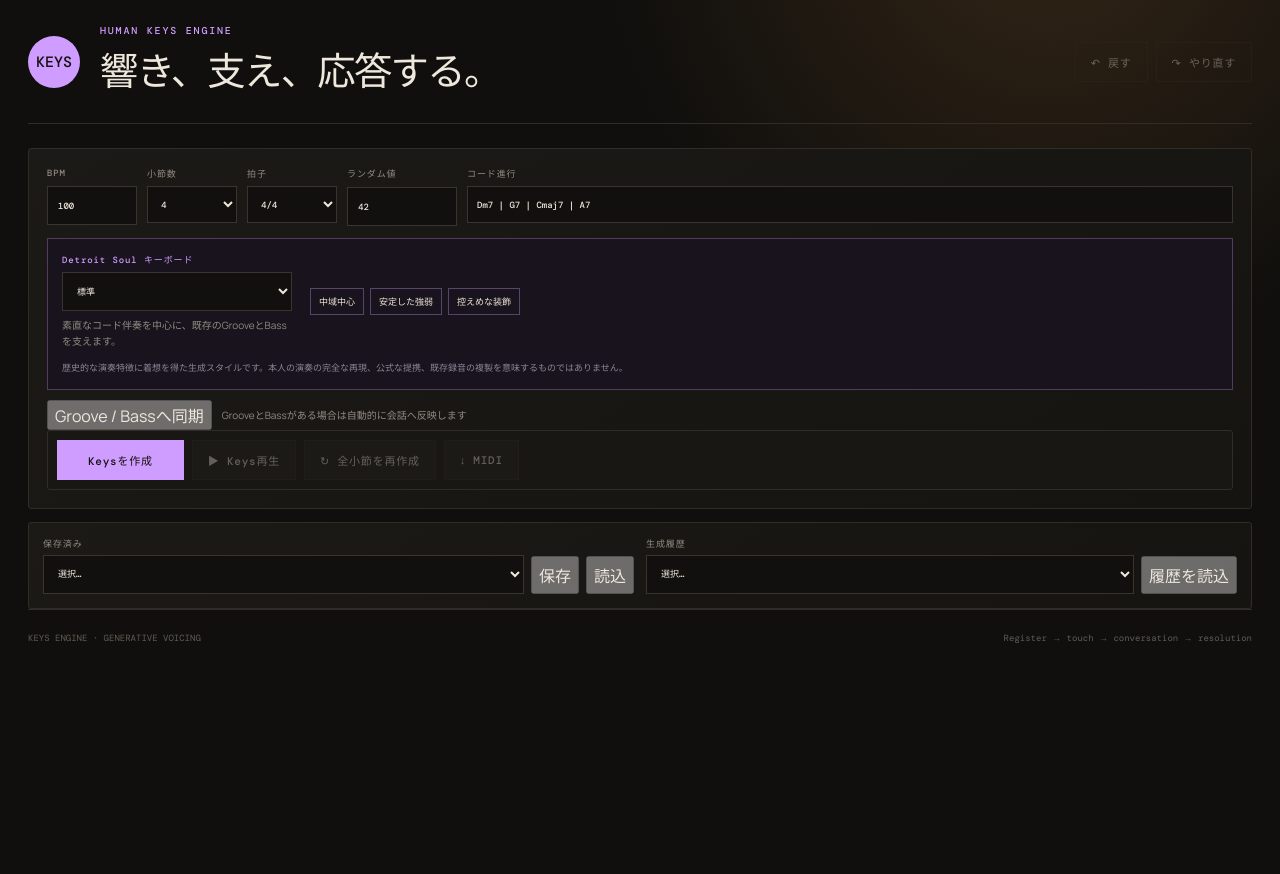
keeps a successful generation when only the history refresh fails
Click the button "Keysを作成".
click(120, 460)  # box left=57, top=440, right=184, bottom=480
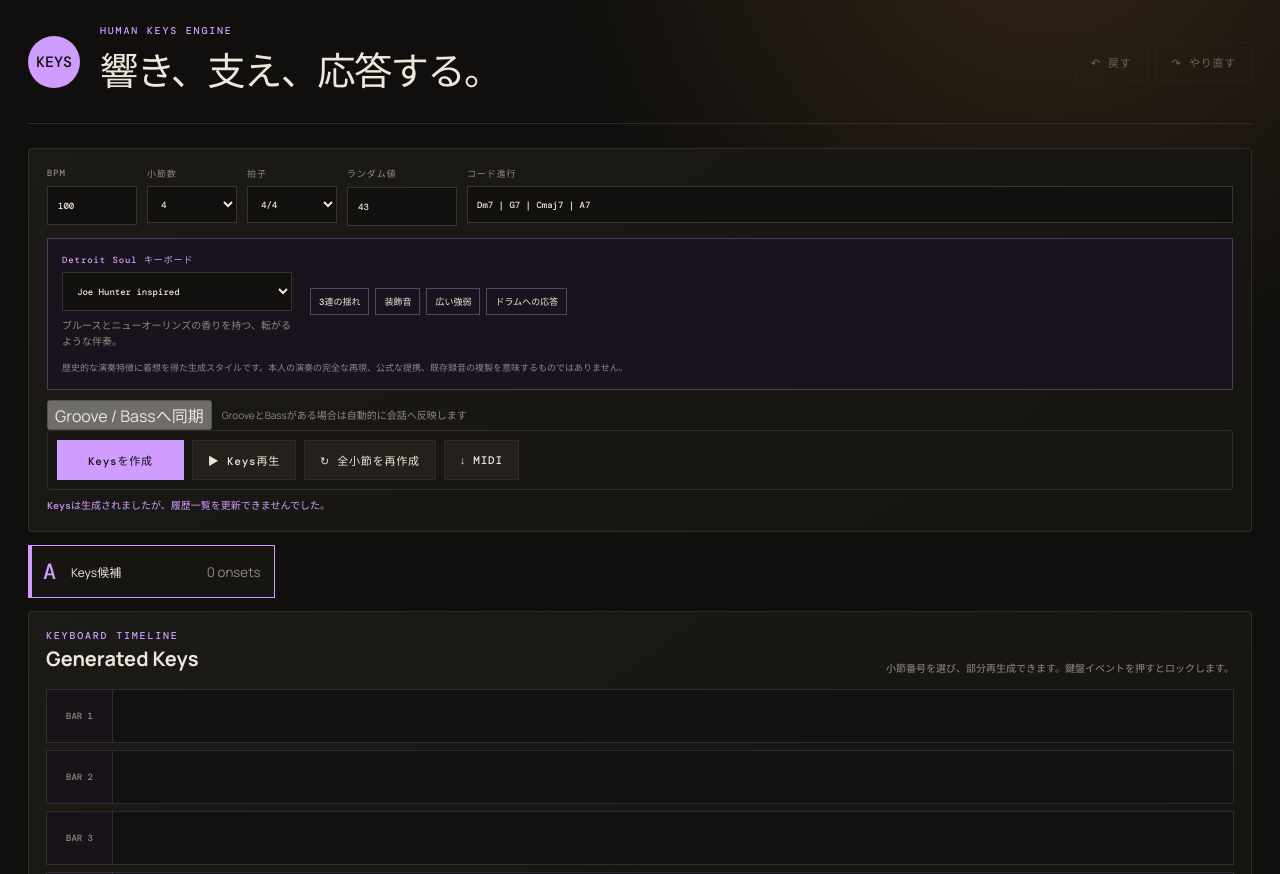
Expected: the heading "Generated Keys" is shown, left=46, top=645, right=198, bottom=672
Expected: the text "Keysは生成されましたが、履歴一覧を更新できませんでした。" is shown, left=47, top=498, right=330, bottom=512
